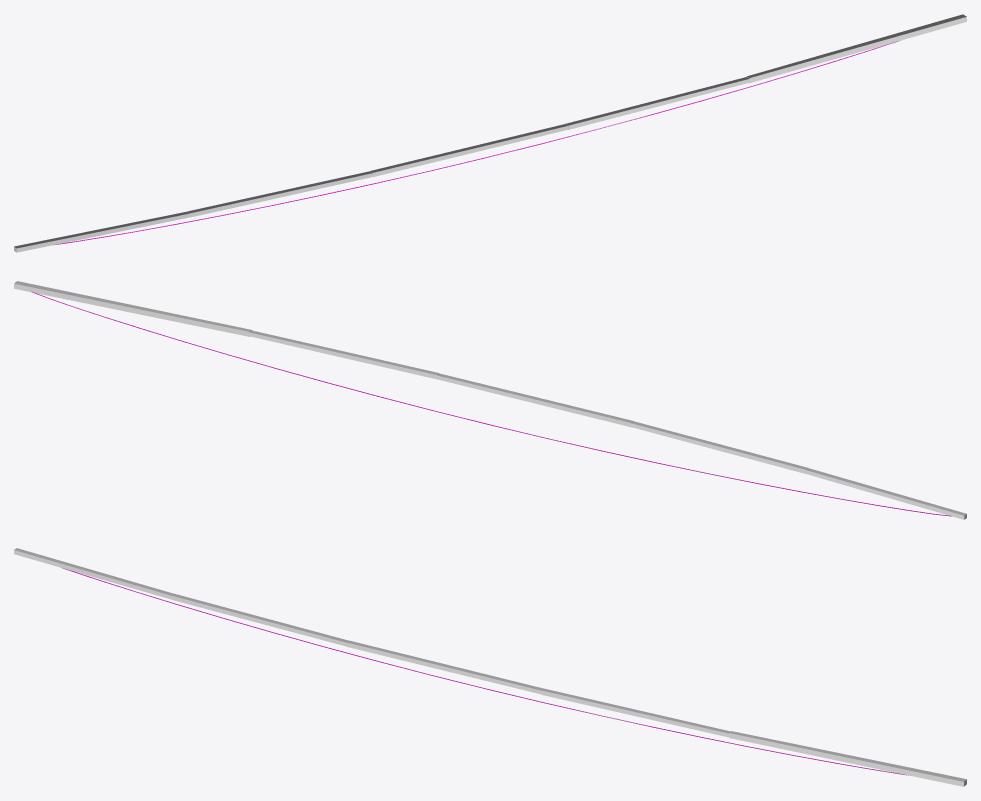
Rendered from SM_Electric_Cable_Long_02.fbx.
3 renders of one model, top to bottom at view 1: azimuth 30°, elevation 25°; view 2: azimuth 150°, elevation 25°; view 3: azimuth 330°, elevation 25°, orthographic.
Parts seen in each view (by area): view 1: SM_Electric_Cable_Long_02_ConvexHulls, SM_Electric_Cable_Long_02_LOD0; view 2: SM_Electric_Cable_Long_02_ConvexHulls, SM_Electric_Cable_Long_02_LOD0; view 3: SM_Electric_Cable_Long_02_ConvexHulls, SM_Electric_Cable_Long_02_LOD0.
Part boxes in pixels (x1,y1,x2,y2): SM_Electric_Cable_Long_02_ConvexHulls: [14, 14, 966, 252]; SM_Electric_Cable_Long_02_LOD0: [55, 41, 898, 244]; SM_Electric_Cable_Long_02_ConvexHulls: [14, 281, 966, 519]; SM_Electric_Cable_Long_02_LOD0: [32, 292, 951, 516]; SM_Electric_Cable_Long_02_ConvexHulls: [14, 548, 966, 786]; SM_Electric_Cable_Long_02_LOD0: [62, 568, 908, 775].
Bounding box in the file's own units: 3976 × 110 × 105.
